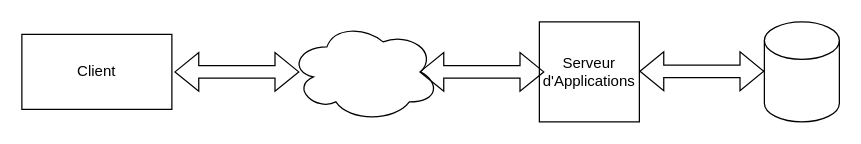
Some shapes in this 861 by 144 pixel diagram are drawn without their labels. The shapes that lost their labels are listed below. From the top down, each one's centre as x and y in pixels, then its label:
point 363,71: Internet
point 801,71: Bdd
